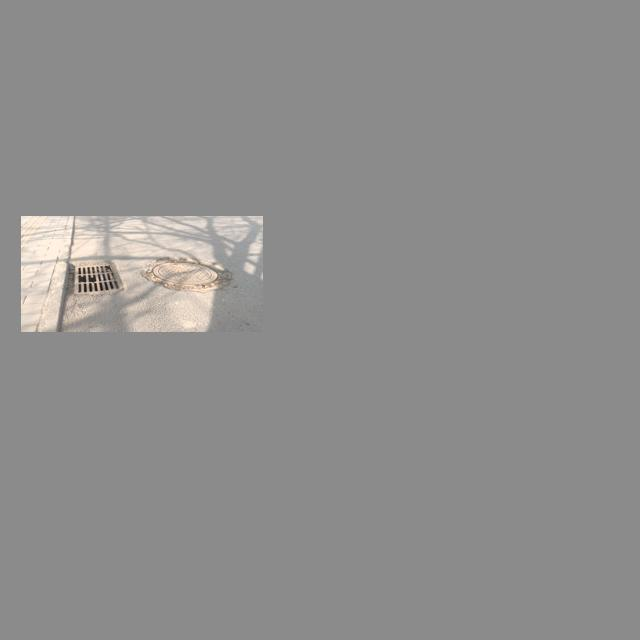circle: (139, 253, 233, 293)
